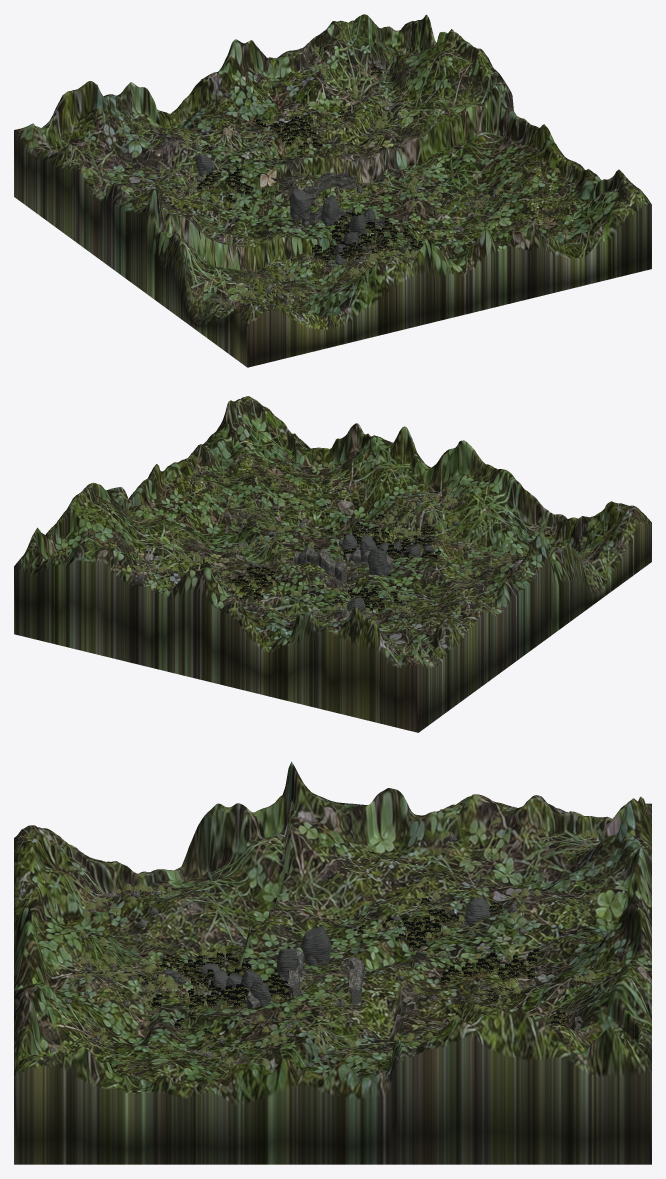
Rendered from world008.fbx.
3 views of the same model, one above another, from view 1: azimuth 30°, elevation 25°; view 2: azimuth 150°, elevation 25°; view 3: azimuth 270°, elevation 25° (orthographic). The views are drawn at different scales.
Visible parts, largest first — view 1: Solid_BoundaryTerrainSouth, Solid_BoundaryTerrainWest, Solid_BoundaryTerrainNorth, Solid_BoundaryTerrainEast, Terrain_4_3, Terrain_1_2, Terrain_4_4, Terrain_3_5, Terrain_5_4, Terrain_5_3, Terrain_4_5, Terrain_1_4 (+27 smaller); view 2: Solid_BoundaryTerrainNorth, Solid_BoundaryTerrainWest, Solid_BoundaryTerrainSouth, Solid_BoundaryTerrainEast, Terrain_4_1, Terrain_5_2, Terrain_2_0, Terrain_3_0, Terrain_5_4, Terrain_4_2, Terrain_1_0, Terrain_2_1 (+26 smaller); view 3: Solid_BoundaryTerrainEast, Solid_BoundaryTerrainWest, Solid_BoundaryTerrainNorth, Solid_BoundaryTerrainSouth, Terrain_0_2, Terrain_1_1, Terrain_3_3, Terrain_1_3, Terrain_0_4, Terrain_3_1, Terrain_2_4, Terrain_1_2 (+31 smaller).
Part boxes in pixels (left/top/right/bottom): Solid_BoundaryTerrainSouth: left=247, top=193, right=651, bottom=367; Solid_BoundaryTerrainWest: left=14, top=124, right=252, bottom=367; Solid_BoundaryTerrainNorth: left=26, top=14, right=413, bottom=150; Solid_BoundaryTerrainEast: left=409, top=14, right=651, bottom=205; Terrain_4_3: left=364, top=106, right=467, bottom=186; Terrain_1_2: left=197, top=220, right=302, bottom=274; Terrain_4_4: left=320, top=81, right=429, bottom=148; Terrain_3_5: left=234, top=69, right=321, bottom=130; Terrain_5_4: left=390, top=43, right=472, bottom=105; Terrain_5_3: left=429, top=82, right=516, bottom=168; Terrain_4_5: left=295, top=41, right=389, bottom=96; Terrain_1_4: left=120, top=136, right=225, bottom=195; Solid_BoundaryTerrainNorth: left=14, top=536, right=418, bottom=732; Solid_BoundaryTerrainWest: left=414, top=507, right=651, bottom=732; Solid_BoundaryTerrainSouth: left=253, top=398, right=640, bottom=548; Solid_BoundaryTerrainEast: left=24, top=396, right=256, bottom=560; Terrain_4_1: left=238, top=475, right=345, bottom=531; Terrain_5_2: left=149, top=478, right=237, bottom=535; Terrain_2_0: left=412, top=473, right=501, bottom=538; Terrain_3_0: left=343, top=453, right=433, bottom=514; Terrain_5_4: left=71, top=499, right=157, bottom=553; Terrain_4_2: left=202, top=504, right=303, bottom=553; Terrain_1_0: left=479, top=493, right=571, bottom=557; Terrain_2_1: left=383, top=509, right=478, bottom=566; Solid_BoundaryTerrainEast: left=14, top=1007, right=651, bottom=1164; Solid_BoundaryTerrainWest: left=30, top=761, right=630, bottom=896; Solid_BoundaryTerrainNorth: left=597, top=796, right=651, bottom=1071; Solid_BoundaryTerrainSouth: left=14, top=825, right=71, bottom=1075; Terrain_0_2: left=224, top=798, right=335, bottom=918; Terrain_1_1: left=118, top=896, right=230, bottom=971; Terrain_3_3: left=329, top=959, right=442, bottom=1043; Terrain_1_3: left=329, top=875, right=441, bottom=947; Terrain_0_4: left=434, top=828, right=547, bottom=890; Terrain_3_1: left=118, top=985, right=230, bottom=1051; Terrain_2_4: left=436, top=909, right=547, bottom=978; Terrain_1_2: left=223, top=878, right=336, bottom=960.
Bounding box in the file's own units: 800 × 206 × 800.
